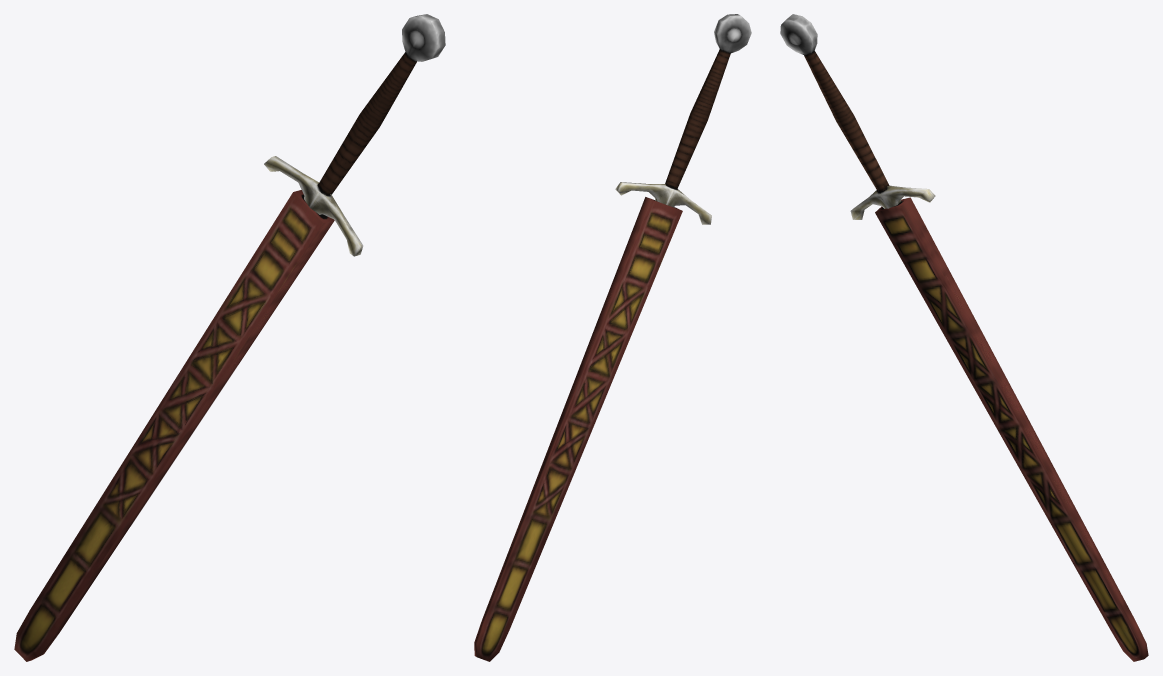
Rendered from Sheath.fbx.
3 renders of one model, left to right at view 1: azimuth 90°, elevation 25°; view 2: azimuth 150°, elevation 25°; view 3: azimuth 270°, elevation 25°, orthographic. The views are drawn at different scales.
Parts seen in each view (by area): view 1: sword_hilt; view 2: sword_hilt; view 3: sword_hilt.
Part boxes in pixels (<box>): sword_hilt: <box>14,14,445,661</box>; sword_hilt: <box>474,14,751,661</box>; sword_hilt: <box>780,14,1148,661</box>.
Size of the model in its own units: 0.2564 by 1.2 by 0.6695.
